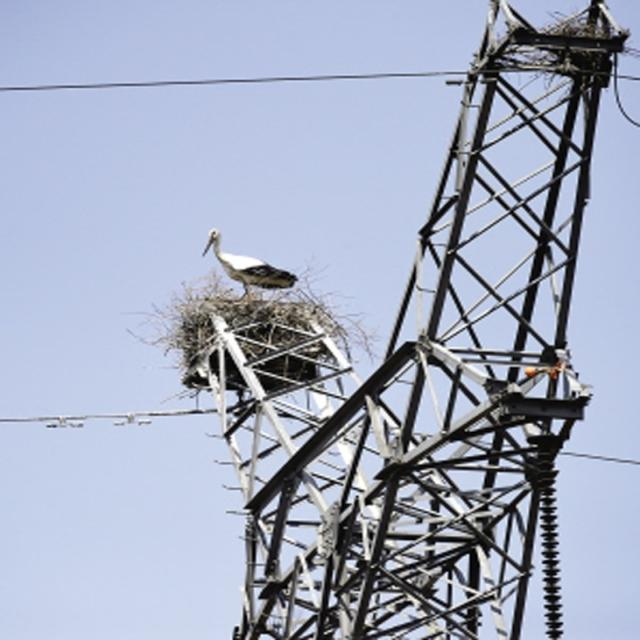non-critical vegetation: (234, 70, 612, 630)
